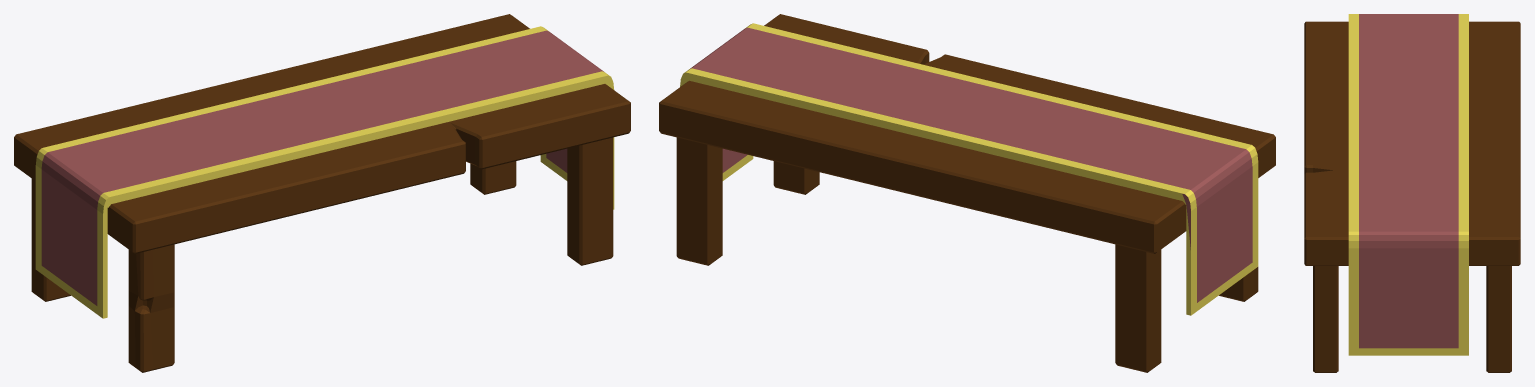
The model's file is Table1.fbx.
3 views of the same model, side by side, from view 1: azimuth 30°, elevation 25°; view 2: azimuth 150°, elevation 25°; view 3: azimuth 270°, elevation 25° (orthographic). The views are drawn at different scales.
Visible parts, largest first — view 1: Cube.008; view 2: Cube.008; view 3: Cube.008.
Boxes of the visible parts, x1,y1,x2,y2 form: Cube.008: [14, 14, 630, 372]; Cube.008: [659, 14, 1275, 372]; Cube.008: [1304, 14, 1520, 372].
Bounding box in the file's own units: 575 × 178 × 236.
